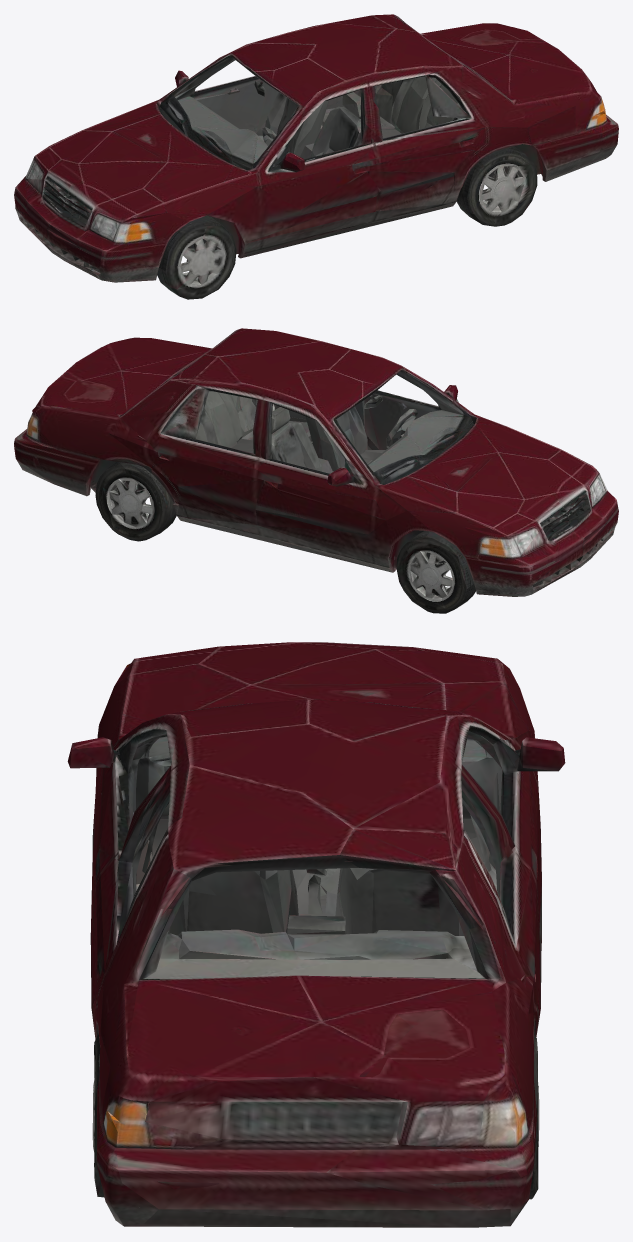
The model's file is sedan.glb.
The picture shows the model from 3 angles, top to bottom: view 1: azimuth 30°, elevation 25°; view 2: azimuth 150°, elevation 25°; view 3: azimuth 270°, elevation 25°; orthographic projection. The views are drawn at different scales.
Size of the model in its own units: 1.9 by 0.5748 by 0.7827.
1 material, 1 textured.
